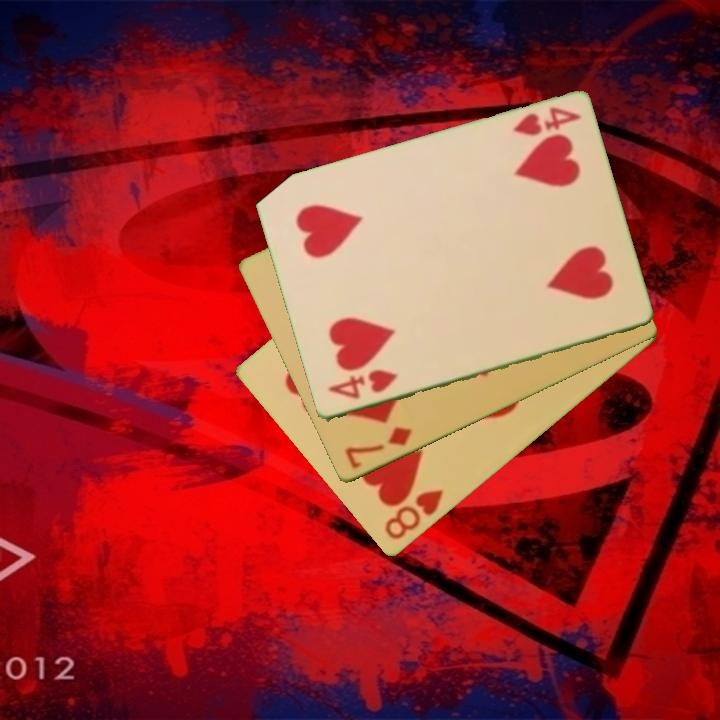4h: (324, 366, 400, 403), (509, 104, 584, 140)
7d: (341, 423, 415, 472)
8h: (381, 486, 447, 543)
